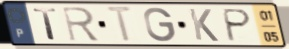G: (142, 6, 178, 43)
K: (187, 7, 221, 43)
P: (222, 8, 254, 44)
R: (60, 6, 102, 43)
T: (104, 5, 137, 44), (31, 7, 60, 41)
